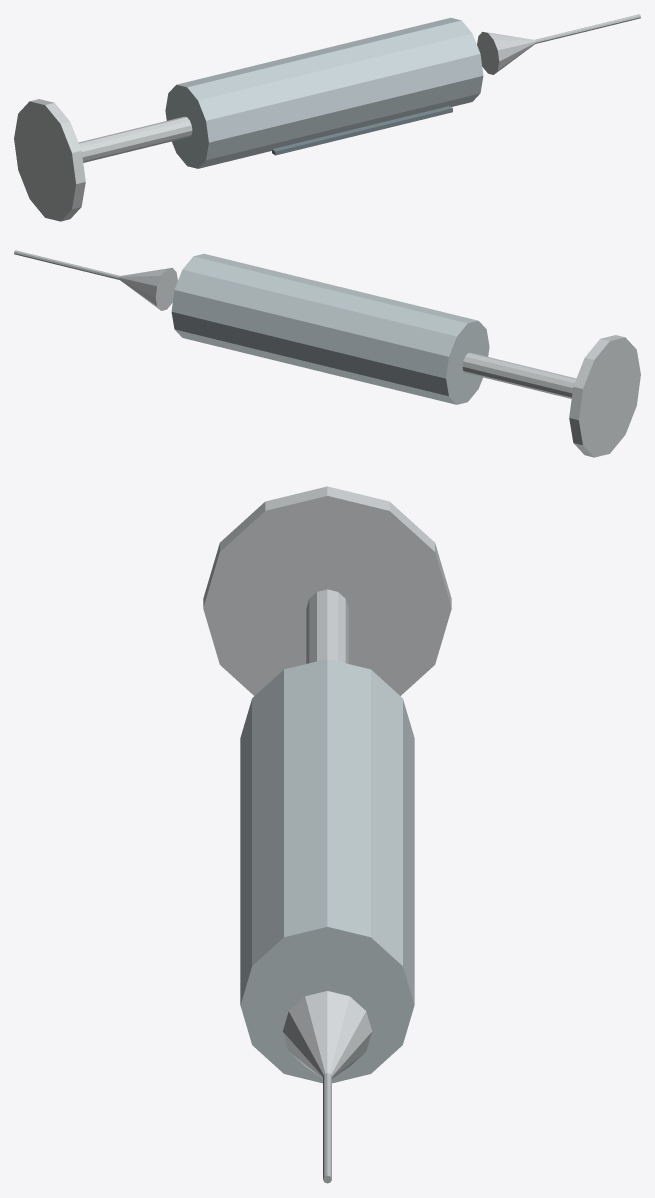
Rendered from syringe-low.glb.
3 views of the same model, one above another, from view 1: azimuth 30°, elevation 25°; view 2: azimuth 150°, elevation 25°; view 3: azimuth 270°, elevation 25° (orthographic). The views are drawn at different scales.
Parts seen in each view (by area): view 1: barrel, plunger_disc, plunger, tip, scale, needle; view 2: barrel, plunger_disc, plunger, tip, needle; view 3: barrel, plunger_disc, tip, plunger, needle.
Part boxes in pixels (<box>): barrel: <box>165,17,483,168</box>; plunger_disc: <box>14,99,85,221</box>; plunger: <box>78,116,192,162</box>; tip: <box>477,31,535,74</box>; scale: <box>272,106,452,155</box>; needle: <box>535,14,640,43</box>; barrel: <box>171,253,489,404</box>; plunger_disc: <box>569,335,640,457</box>; plunger: <box>462,352,576,398</box>; tip: <box>119,267,177,310</box>; needle: <box>14,250,119,279</box>; barrel: <box>240,659,414,1083</box>; plunger_disc: <box>203,486,451,695</box>; tip: <box>282,991,372,1078</box>; plunger: <box>306,589,348,663</box>; needle: <box>323,1073,331,1183</box>.
Size of the model in its own units: 5.52 by 1 by 1.
